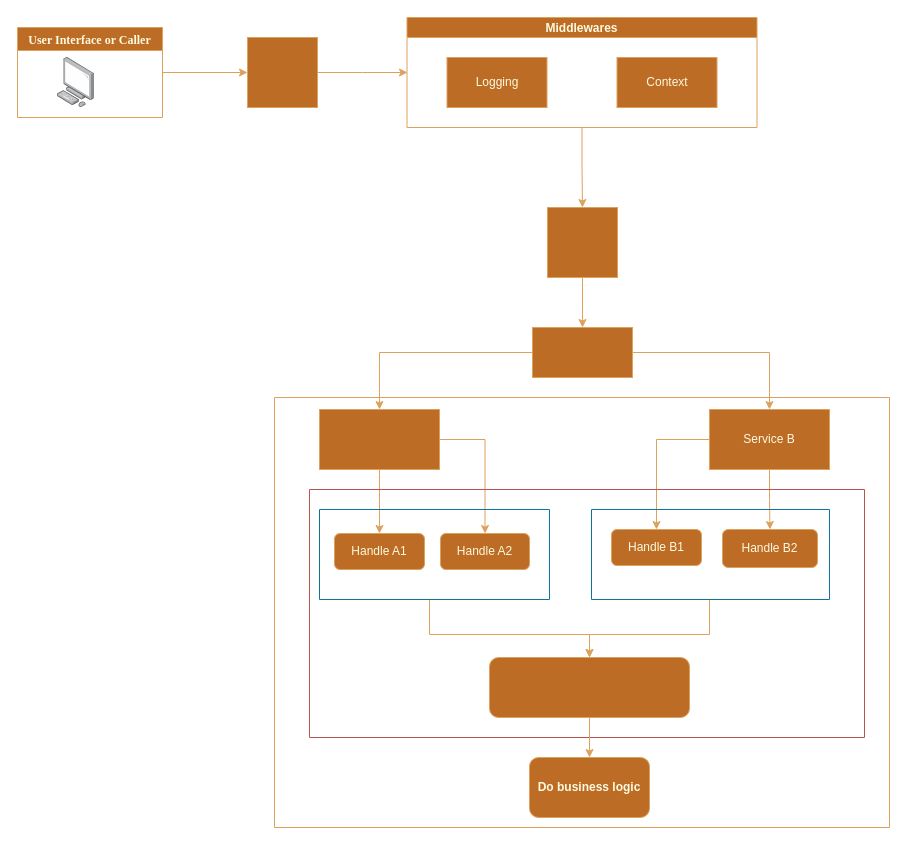
The diagram is 907 pixels wide and 845 high, and some of its shapes have lost their labels. Each missing label, with the centre of its shape:
"APIs" goes at (x=282, y=72).
"Check Permisson" goes at (x=589, y=687).
"check token key" goes at (x=582, y=352).
"routers" goes at (x=582, y=242).
"Service A" goes at (x=379, y=439).
